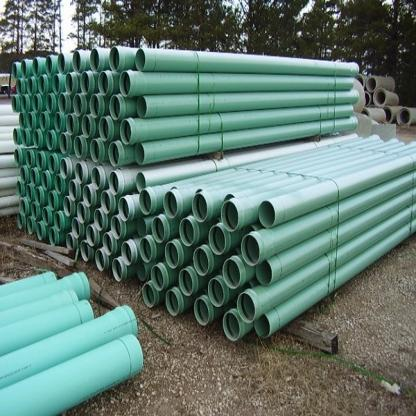PVC: (0, 46, 415, 343), (0, 270, 144, 415)
